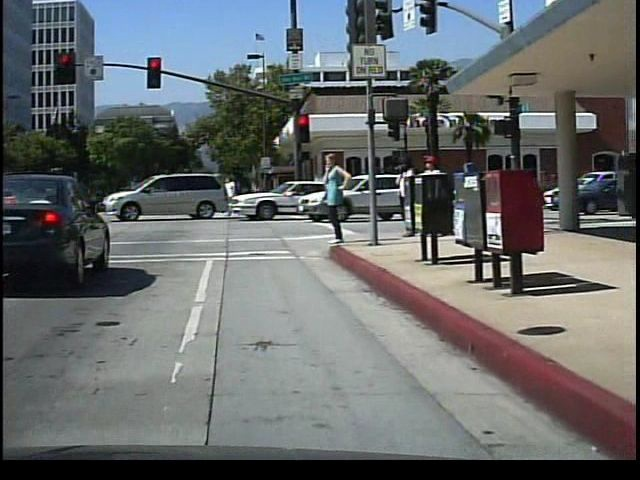person: (315, 147, 349, 249), (414, 147, 447, 241), (390, 149, 417, 238)
